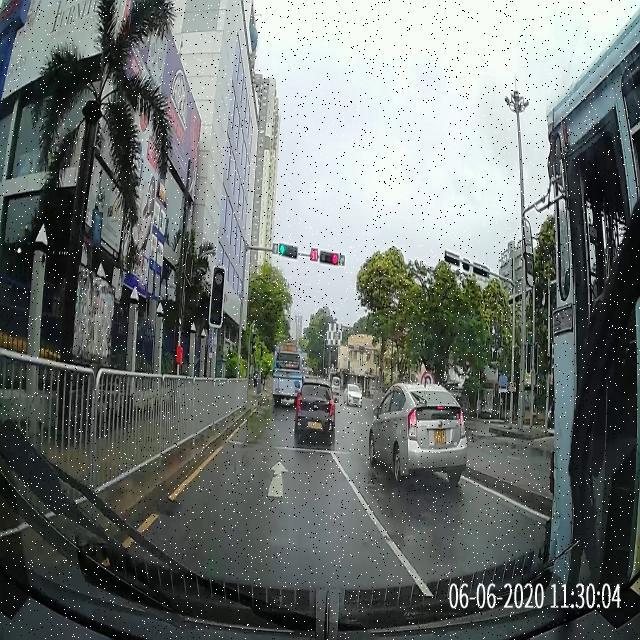forward: (144, 448, 383, 522)
